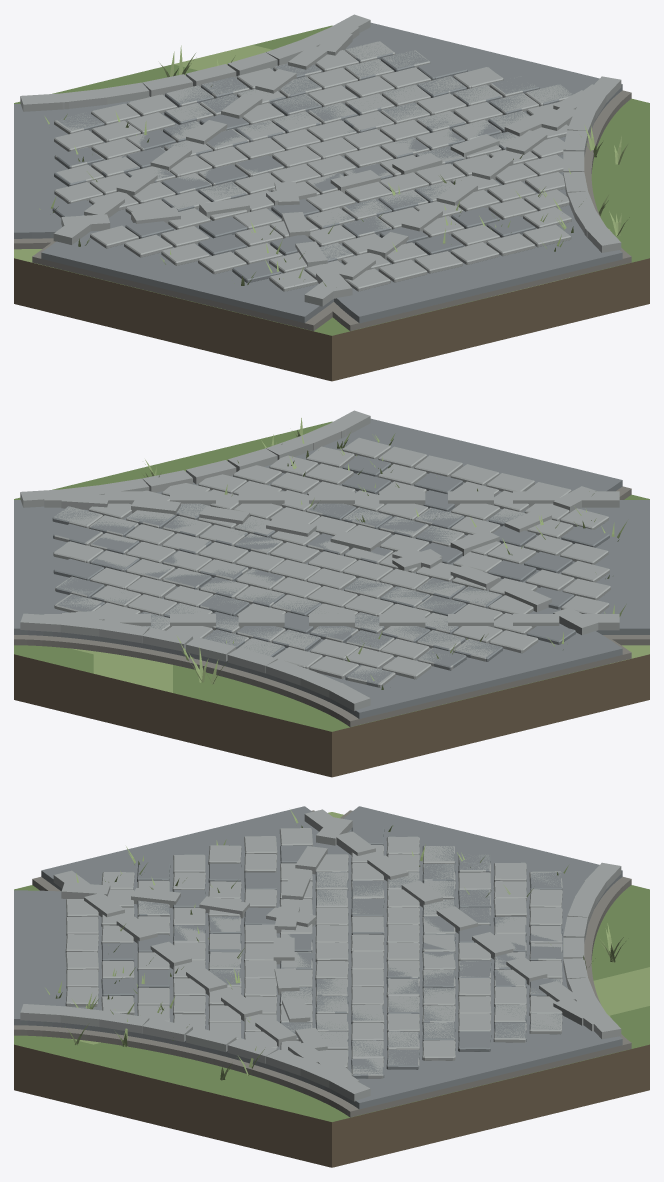
File: stone-road.glb
The picture shows the model from 3 angles, top to bottom: view 1: azimuth 30°, elevation 25°; view 2: azimuth 150°, elevation 25°; view 3: azimuth 270°, elevation 25°; orthographic projection.
Parts seen in each view (by area): view 1: RouteRoot_mesh, RouteBuild.255_mesh, RouteBuild.009_mesh, RouteBuild.138_mesh, RouteBuild.014_mesh, RouteBuild.247_mesh, RouteBuild.143_mesh, RouteBuild_mesh, RouteBuild.257_mesh, RouteBuild.241_mesh, RouteBuild.237_mesh, RouteBuild.239_mesh (+103 smaller); view 2: RouteRoot_mesh, RouteBuild.138_mesh, RouteBuild.255_mesh, RouteBuild.009_mesh, RouteBuild.143_mesh, RouteBuild.257_mesh, RouteBuild.129_mesh, RouteBuild.014_mesh, RouteBuild.134_mesh, RouteBuild.133_mesh, RouteBuild.231_mesh, RouteBuild.233_mesh (+97 smaller); view 3: RouteRoot_mesh, RouteBuild.255_mesh, RouteBuild.014_mesh, RouteBuild.009_mesh, RouteBuild.138_mesh, RouteBuild.257_mesh, RouteBuild.143_mesh, RouteBuild.007_mesh, RouteBuild.249_mesh, RouteBuild.256_mesh, RouteBuild.258_mesh, RouteBuild.139_mesh (+81 smaller).
Part boxes in pixels (box(x1,y1,x2,y2)): RouteRoot_mesh: box(14, 25, 649, 381); RouteBuild.255_mesh: box(236, 68, 622, 323); RouteBuild.009_mesh: box(41, 214, 319, 322); RouteBuild.138_mesh: box(14, 104, 130, 232); RouteBuild.014_mesh: box(345, 22, 622, 115); RouteBuild.247_mesh: box(328, 184, 631, 330); RouteBuild.143_mesh: box(344, 23, 597, 115); RouteBuild_mesh: box(32, 256, 313, 330); RouteBuild.257_mesh: box(354, 23, 598, 141); RouteBuild.241_mesh: box(20, 93, 68, 111); RouteBuild.237_mesh: box(99, 82, 149, 104); RouteBuild.239_mesh: box(57, 89, 107, 109); RouteRoot_mesh: box(14, 421, 649, 777); RouteBuild.138_mesh: box(339, 607, 622, 718); RouteBuild.255_mesh: box(235, 418, 622, 633); RouteBuild.009_mesh: box(536, 500, 649, 628); RouteBuild.143_mesh: box(14, 500, 132, 634); RouteBuild.257_mesh: box(14, 491, 162, 628); RouteBuild.129_mesh: box(350, 652, 631, 726); RouteBuild.014_mesh: box(14, 500, 127, 628); RouteBuild.134_mesh: box(27, 639, 142, 654); RouteBuild.133_mesh: box(118, 648, 206, 669); RouteBuild.231_mesh: box(142, 628, 192, 651); RouteBuild.233_mesh: box(186, 637, 236, 661); RouteRoot_mesh: box(14, 812, 649, 1167); RouteBuild.255_mesh: box(14, 890, 566, 1040); RouteBuild.014_mesh: box(347, 1006, 622, 1109); RouteBuild.009_mesh: box(41, 806, 345, 891); RouteBuild.138_mesh: box(318, 806, 622, 894); RouteBuild.257_mesh: box(143, 1028, 621, 1102); RouteBuild.143_mesh: box(348, 1016, 621, 1102); RouteBuild.007_mesh: box(350, 1043, 631, 1117); RouteBuild.249_mesh: box(118, 1037, 629, 1111); RouteBuild.256_mesh: box(14, 967, 590, 1038); RouteBuild.258_mesh: box(294, 1062, 480, 1108); RouteBuild.139_mesh: box(312, 868, 616, 923).
Bounding box in the file's own units: 3.5 × 0.389 × 3.03.
